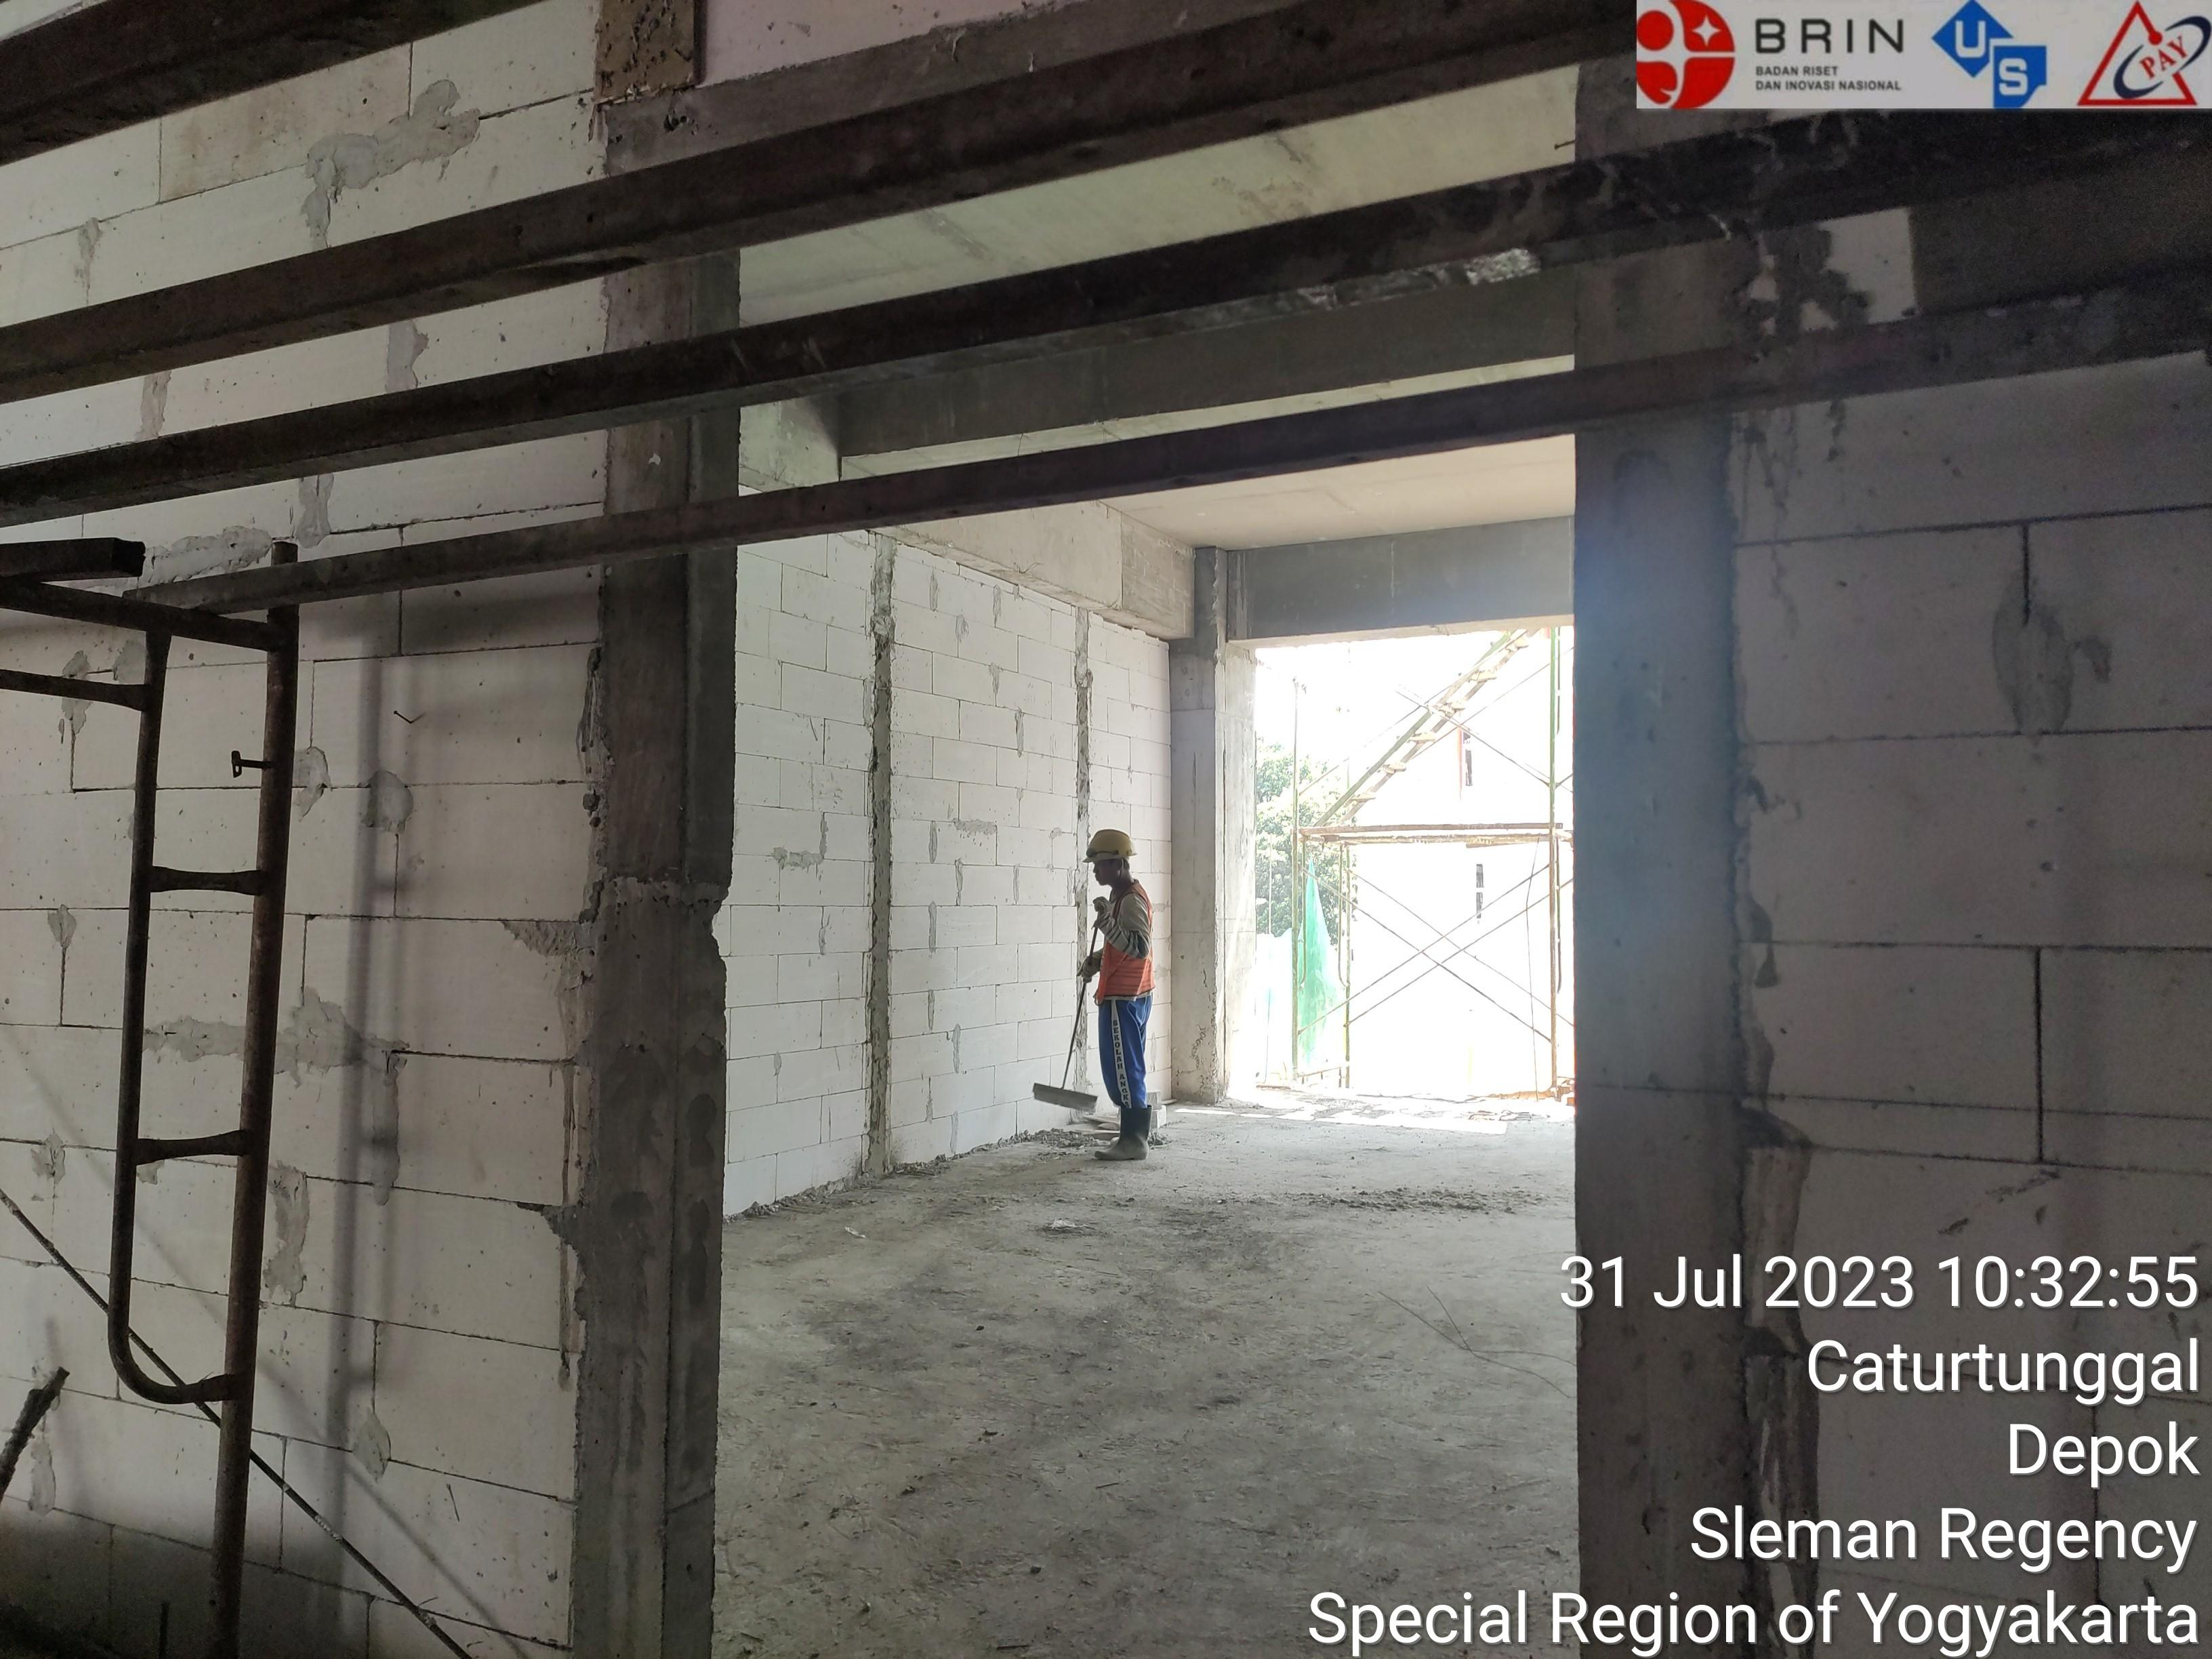hat: (1062, 809, 1148, 878)
vest: (1085, 877, 1183, 1021)
